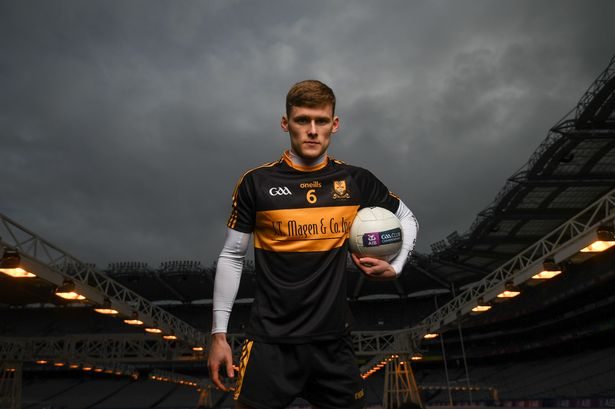ball: (346, 201, 407, 269)
player: (236, 70, 370, 404)
